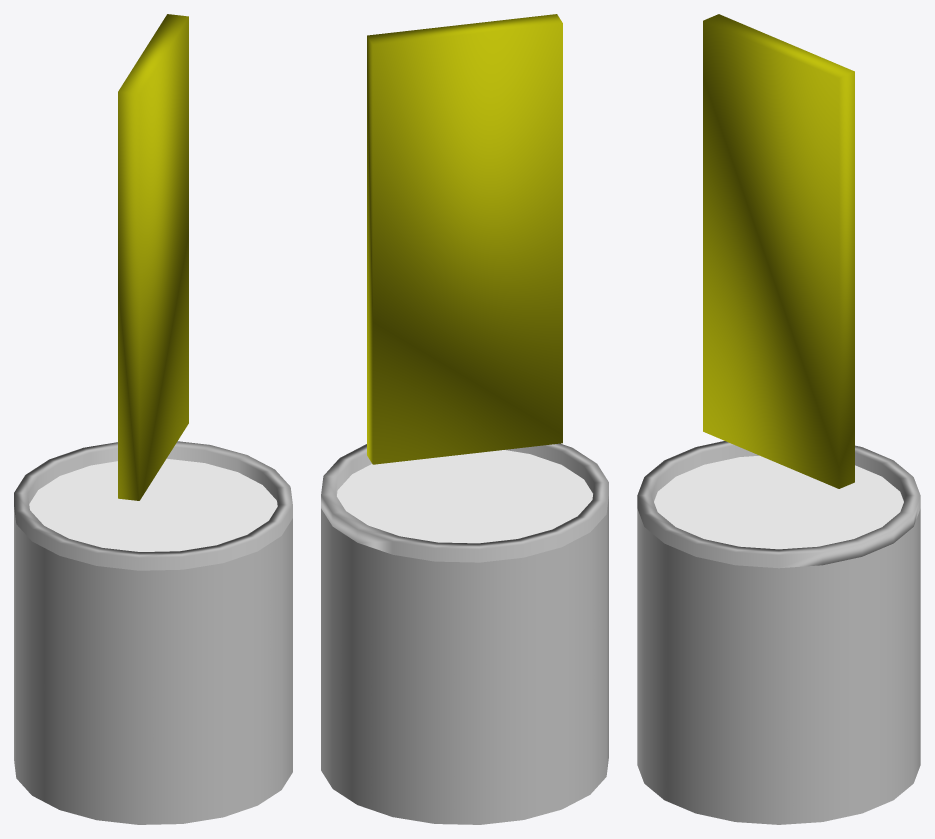
File: display-case-1.fbx
3 views of the same model, side by side, from view 1: azimuth 30°, elevation 25°; view 2: azimuth 150°, elevation 25°; view 3: azimuth 270°, elevation 25° (orthographic). The views are drawn at different scales.
Visible parts, largest first — view 1: pCylinder1, obelisk_rotate1, pCylinder2, pPipe3; view 2: obelisk_rotate1, pCylinder1, pCylinder2, pPipe3; view 3: pCylinder1, obelisk_rotate1, pCylinder2, pPipe3.
Part boxes in pixels (left/top/right/bottom): pCylinder1: left=14, top=507, right=292, bottom=824; obelisk_rotate1: left=118, top=14, right=188, bottom=500; pCylinder2: left=29, top=458, right=277, bottom=551; pPipe3: left=14, top=441, right=292, bottom=570; obelisk_rotate1: left=367, top=14, right=562, bottom=464; pCylinder1: left=321, top=496, right=608, bottom=824; pCylinder2: left=337, top=450, right=592, bottom=543; pPipe3: left=321, top=443, right=608, bottom=562; pCylinder1: left=637, top=509, right=920, bottom=824; obelisk_rotate1: left=703, top=14, right=854, bottom=488; pCylinder2: left=654, top=455, right=903, bottom=549; pPipe3: left=637, top=441, right=920, bottom=568.
Size of the model in its own units: 2 by 5.6 by 2.
